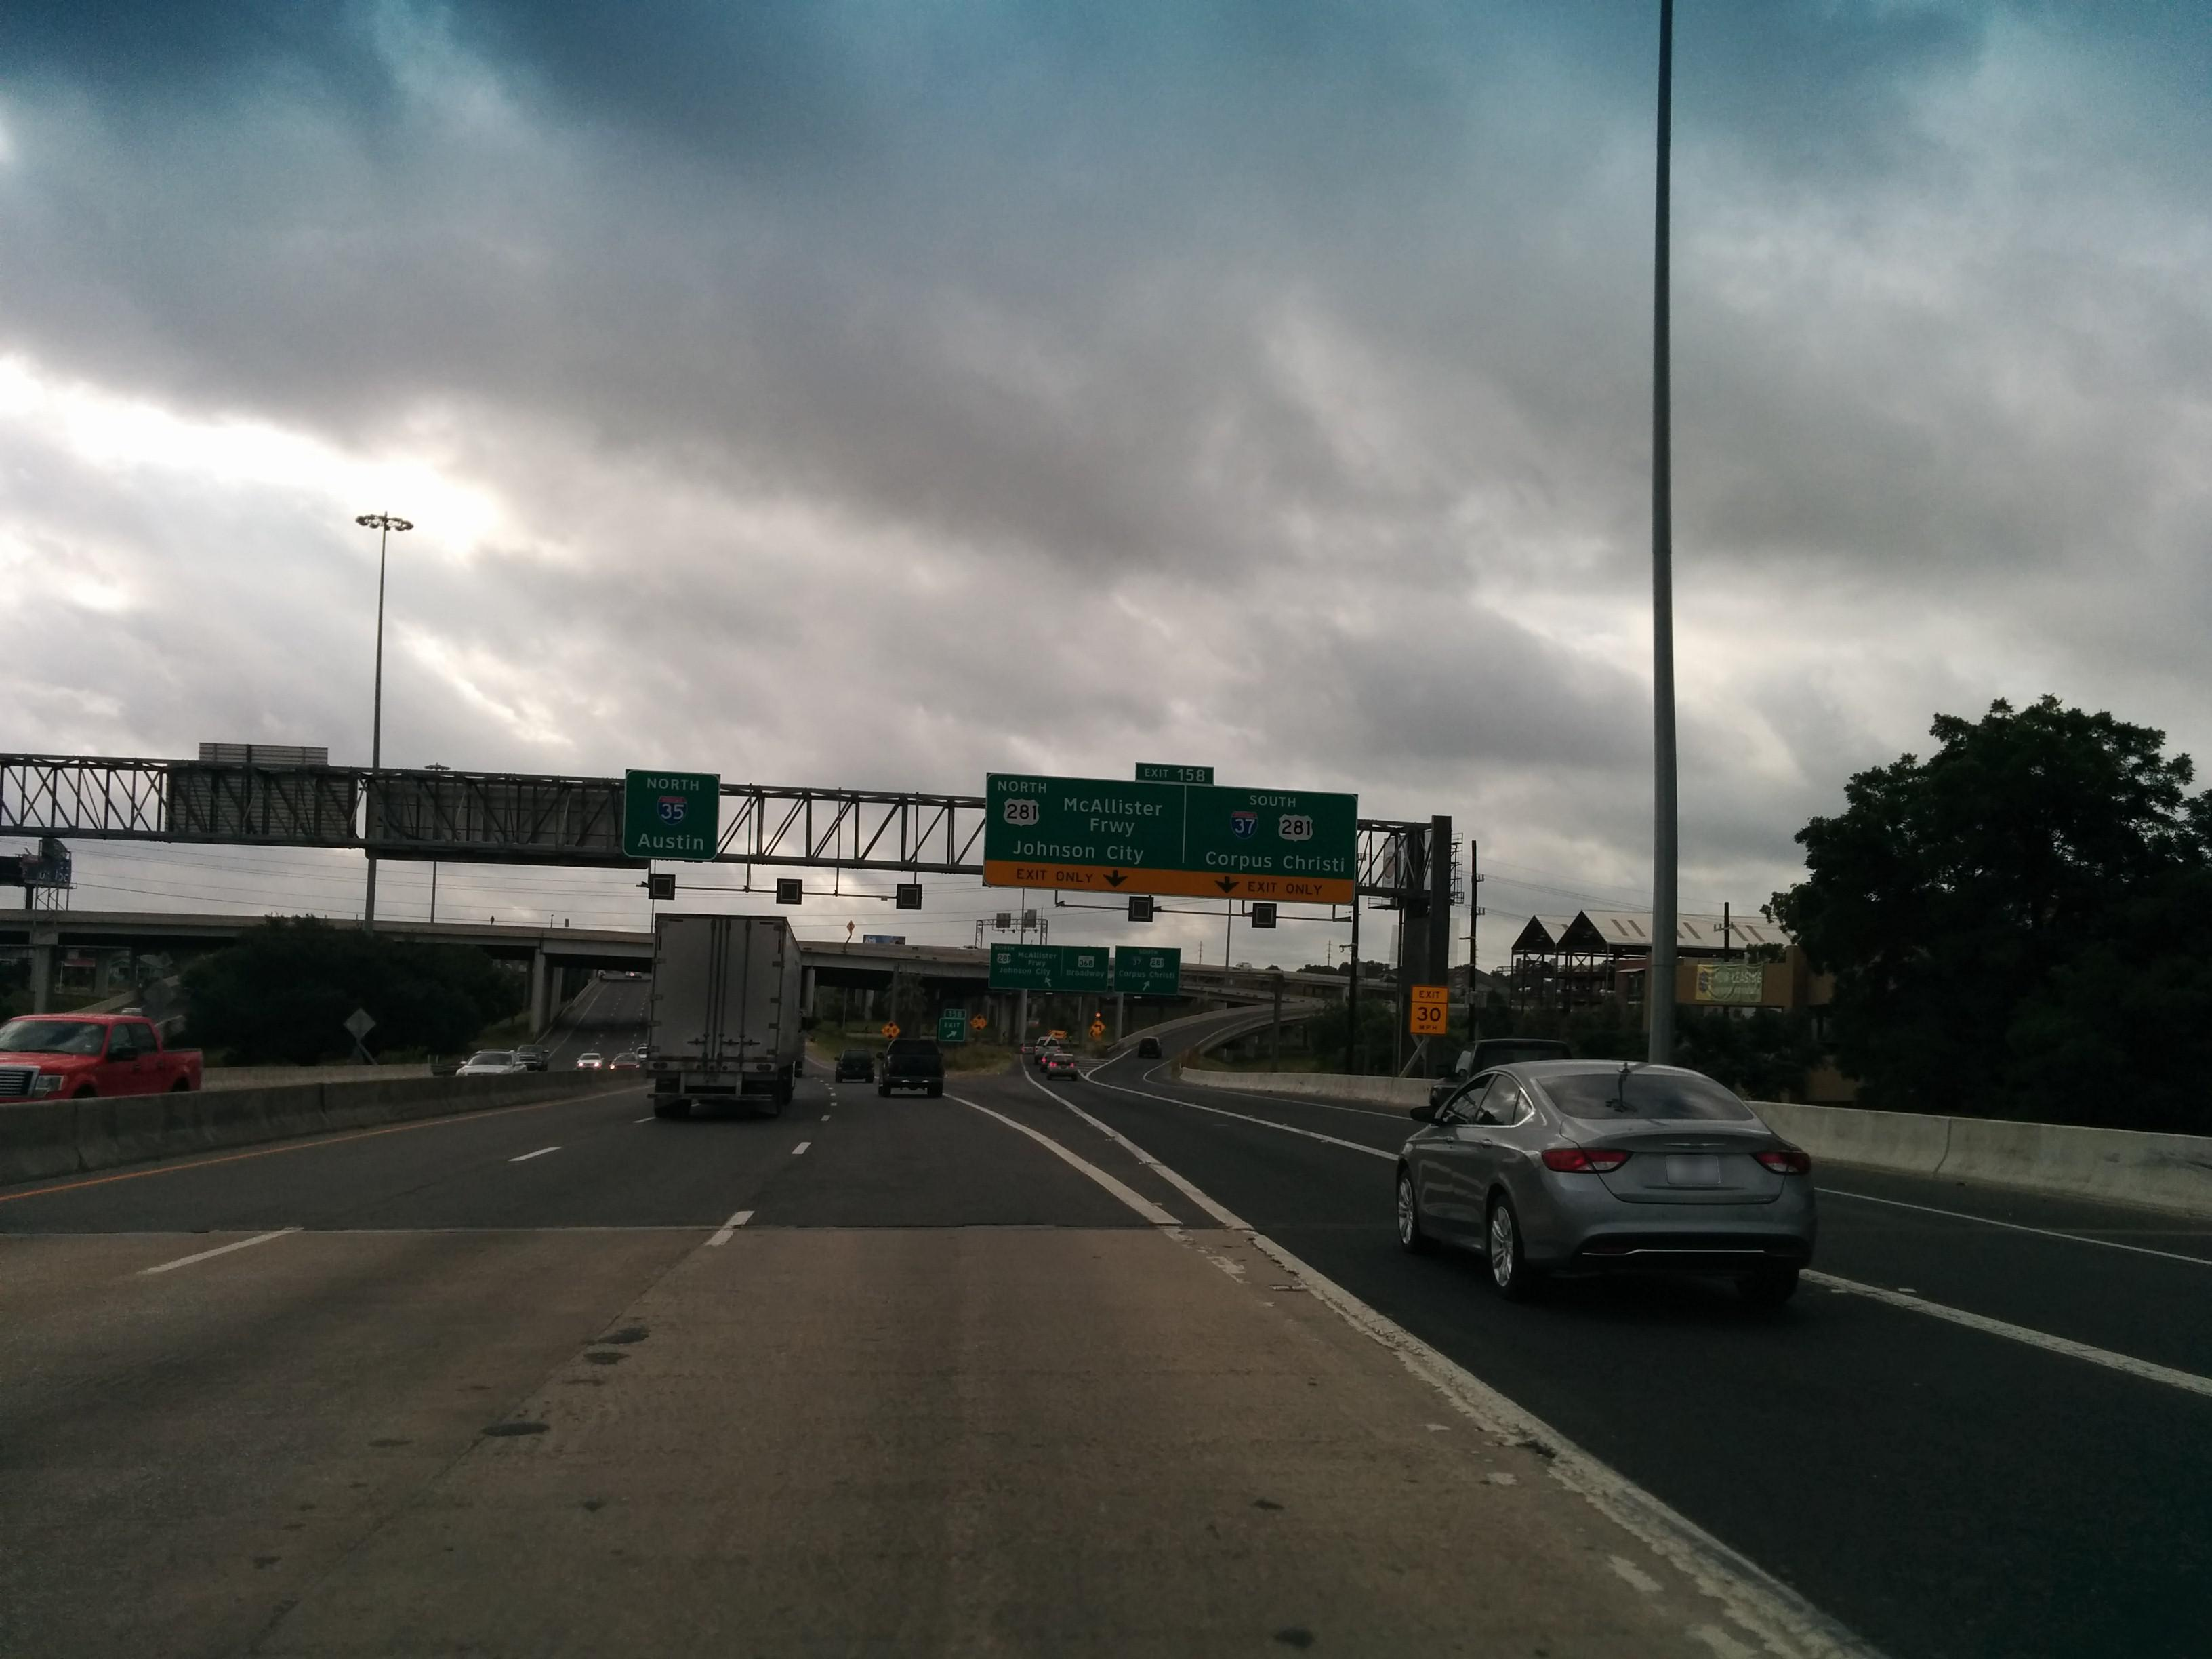vinyl banner: (1686, 945, 1782, 1006)
